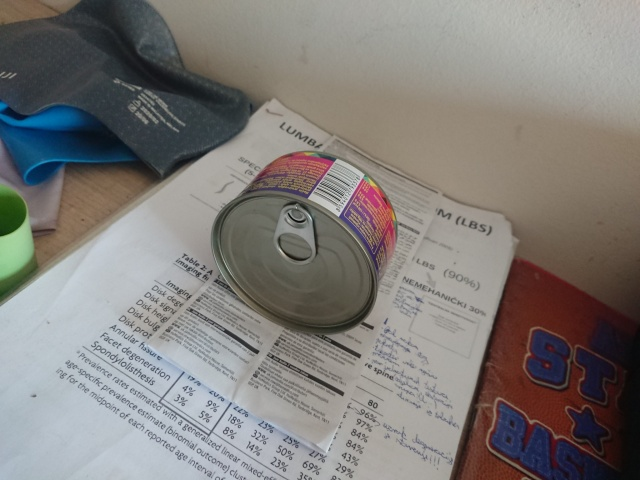Giana Tuna Salad Mexico 185g: (207, 148, 402, 338)
